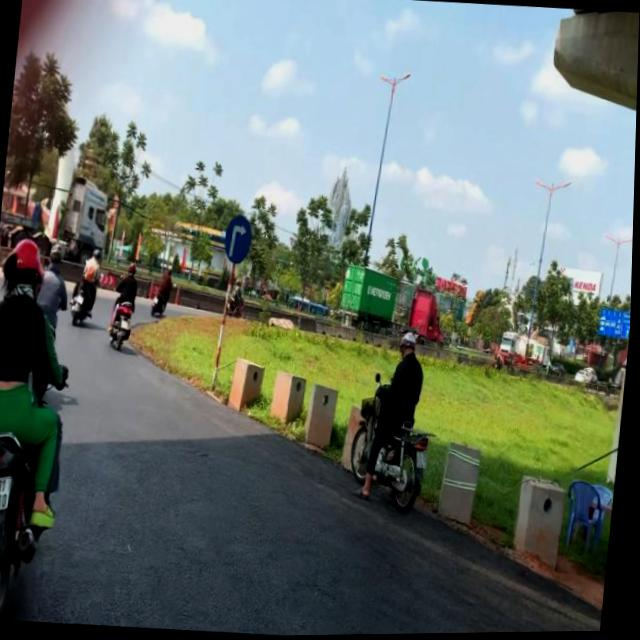Cac xe chi duoc re phai: (222, 212, 255, 267)
